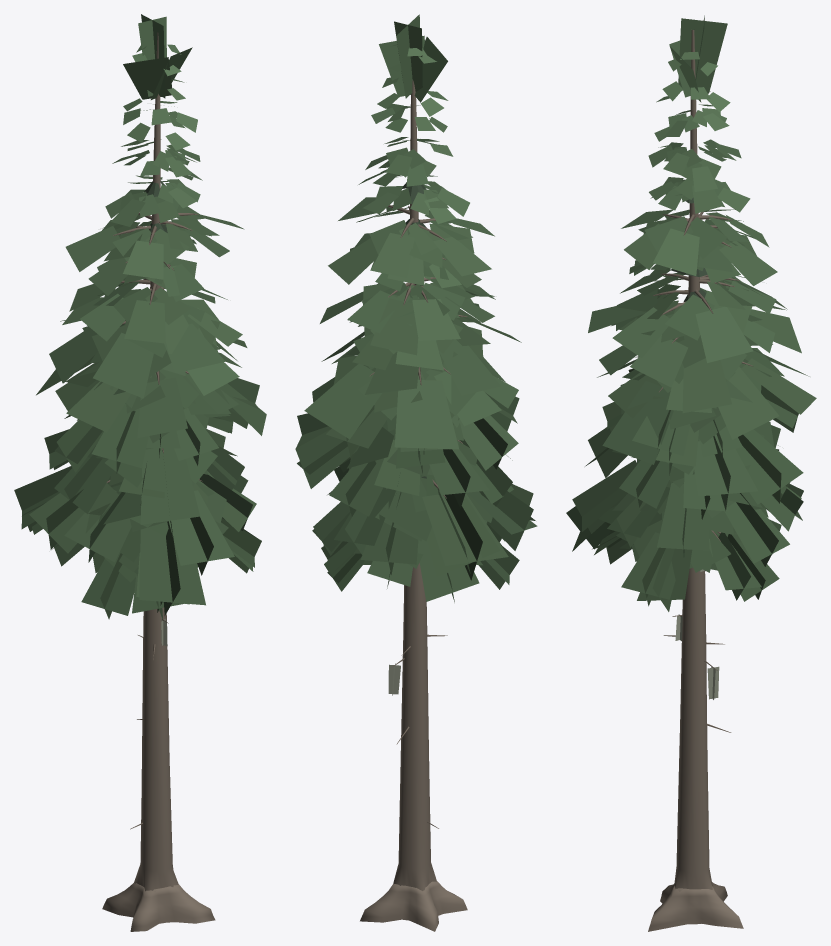
Rendered from fir_giant_moss.glb.
The picture shows the model from 3 angles, left to right: view 1: azimuth 30°, elevation 25°; view 2: azimuth 150°, elevation 25°; view 3: azimuth 270°, elevation 25°; orthographic projection.
Visible parts, largest first — view 1: fir_giant_moss; view 2: fir_giant_moss; view 3: fir_giant_moss.
Boxes of the visible parts, x1,y1,x2,y2 form: fir_giant_moss: (14,14,266,931); fir_giant_moss: (295,14,537,931); fir_giant_moss: (566,15,816,931).
Bounding box in the file's own units: 8.09 × 31.57 × 8.01.
